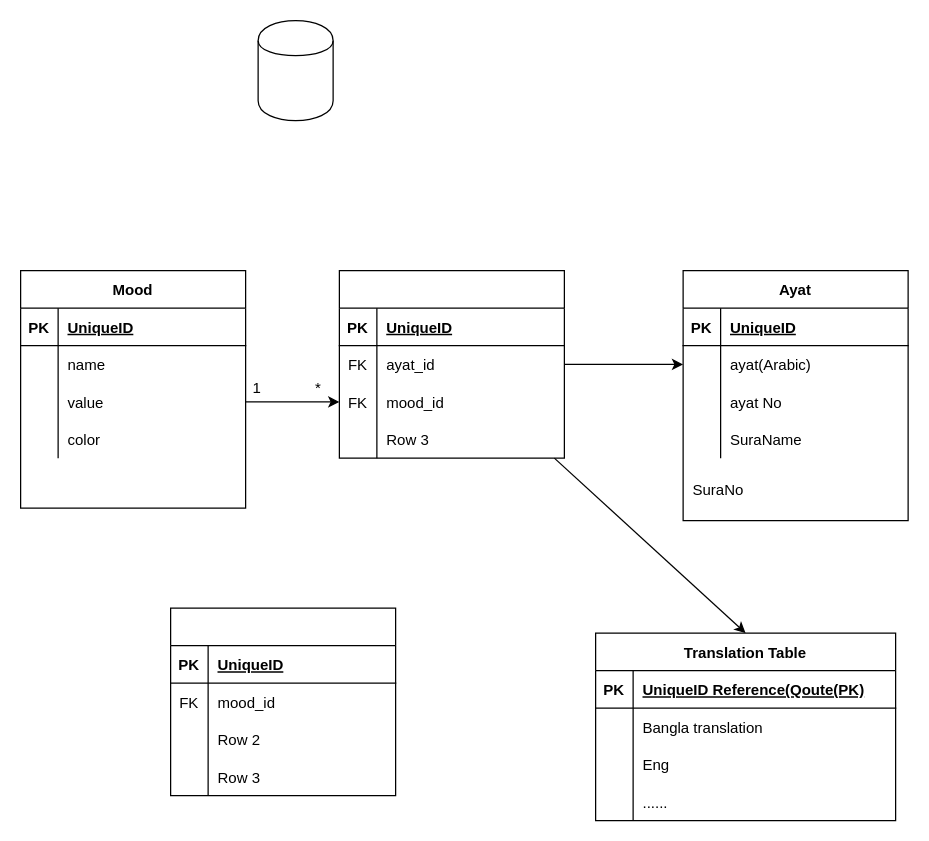
Image size: 929x841. Some labels were removed from this diagram. The box of each missing label's shape, as (x1, y1, x2, y2) in pixels:
Qoute: (338, 269, 564, 458)
Story: (169, 607, 396, 796)
